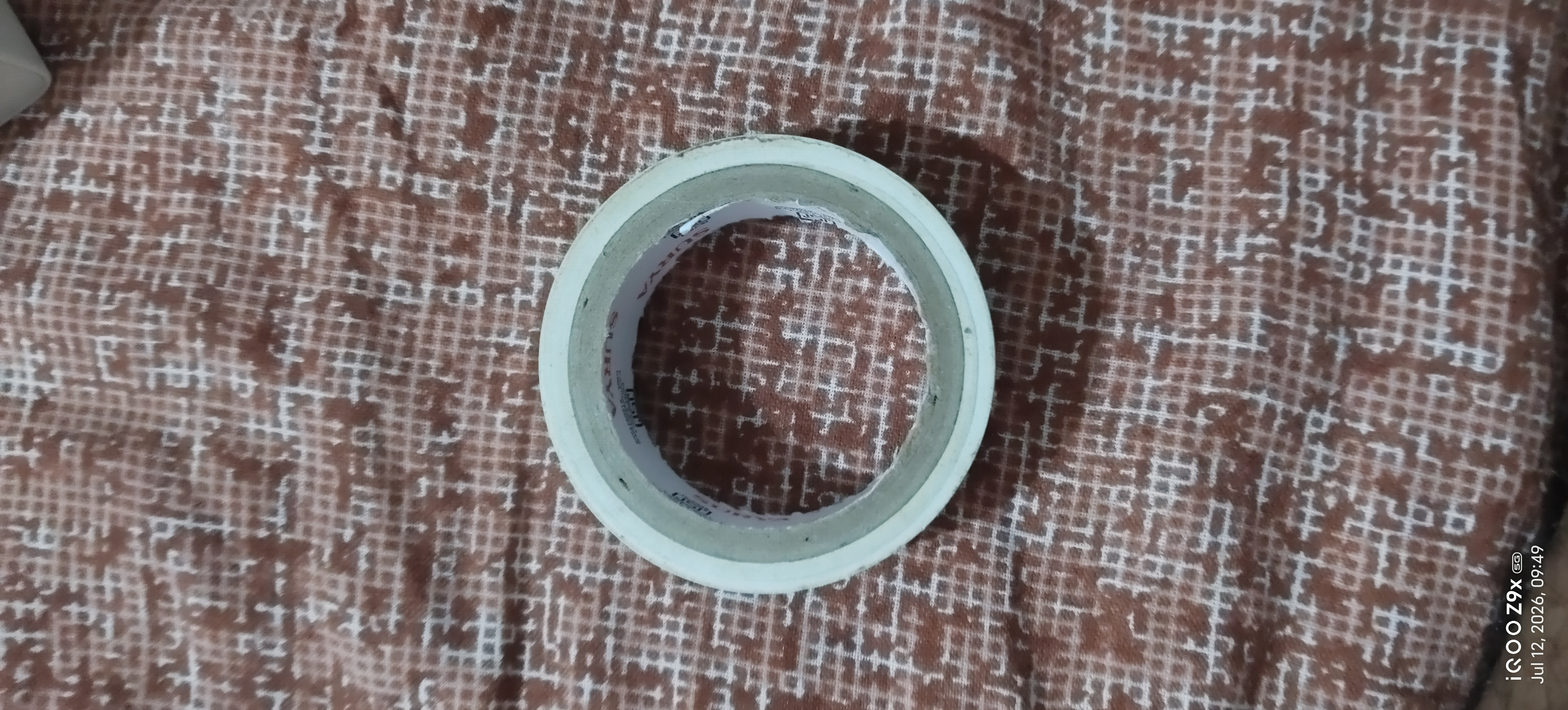tape_roll: (507, 109, 1028, 635)
